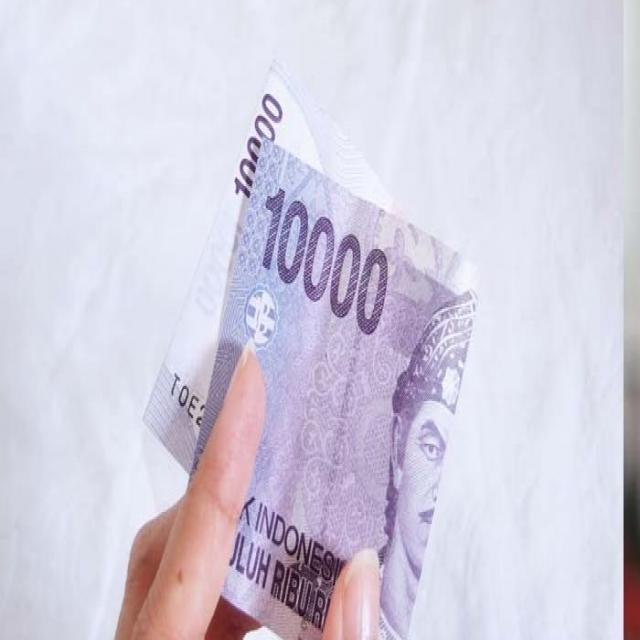sepuluh ribu rupiah: (178, 68, 460, 640)
